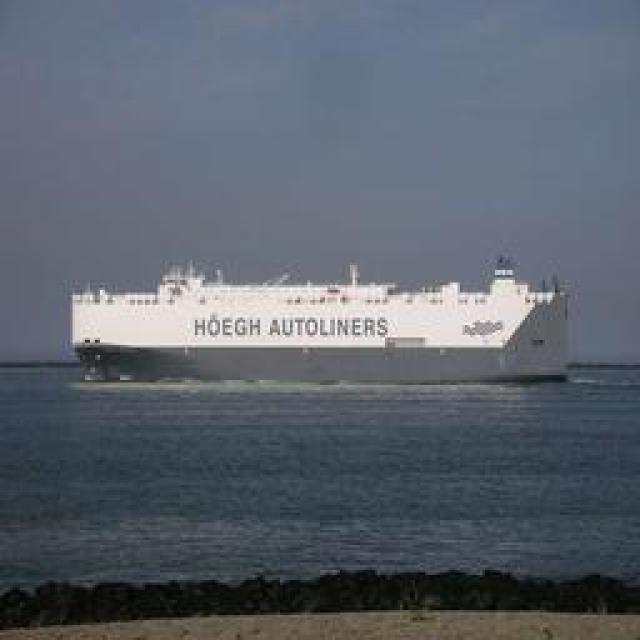Ship: (74, 249, 577, 382)
